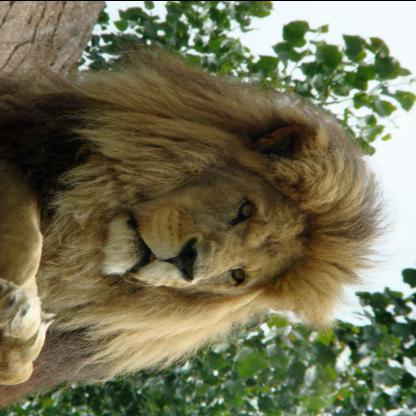lion: (71, 79, 392, 340)
